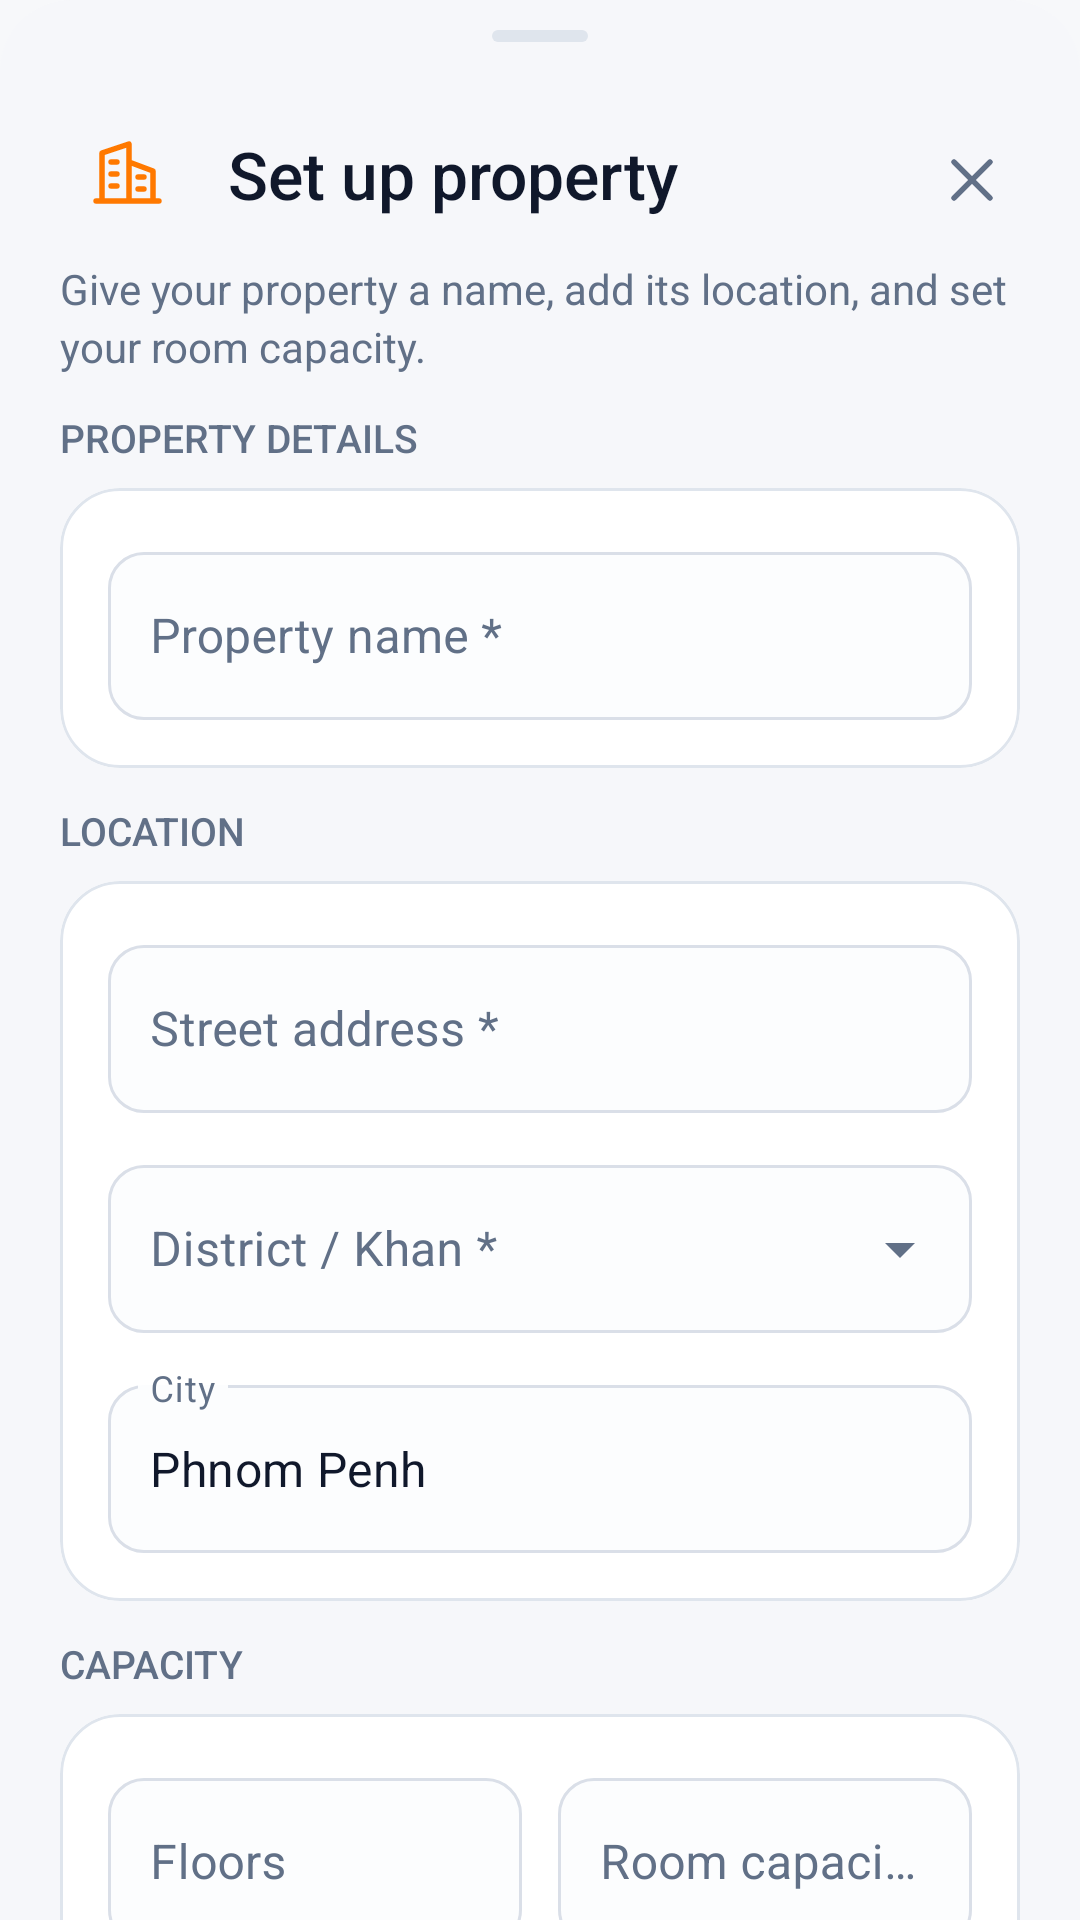

Icon click points for this 1080*1920 phone screenshot, format (x,y):
Close: (972,180)
rkp building: (127,172)
